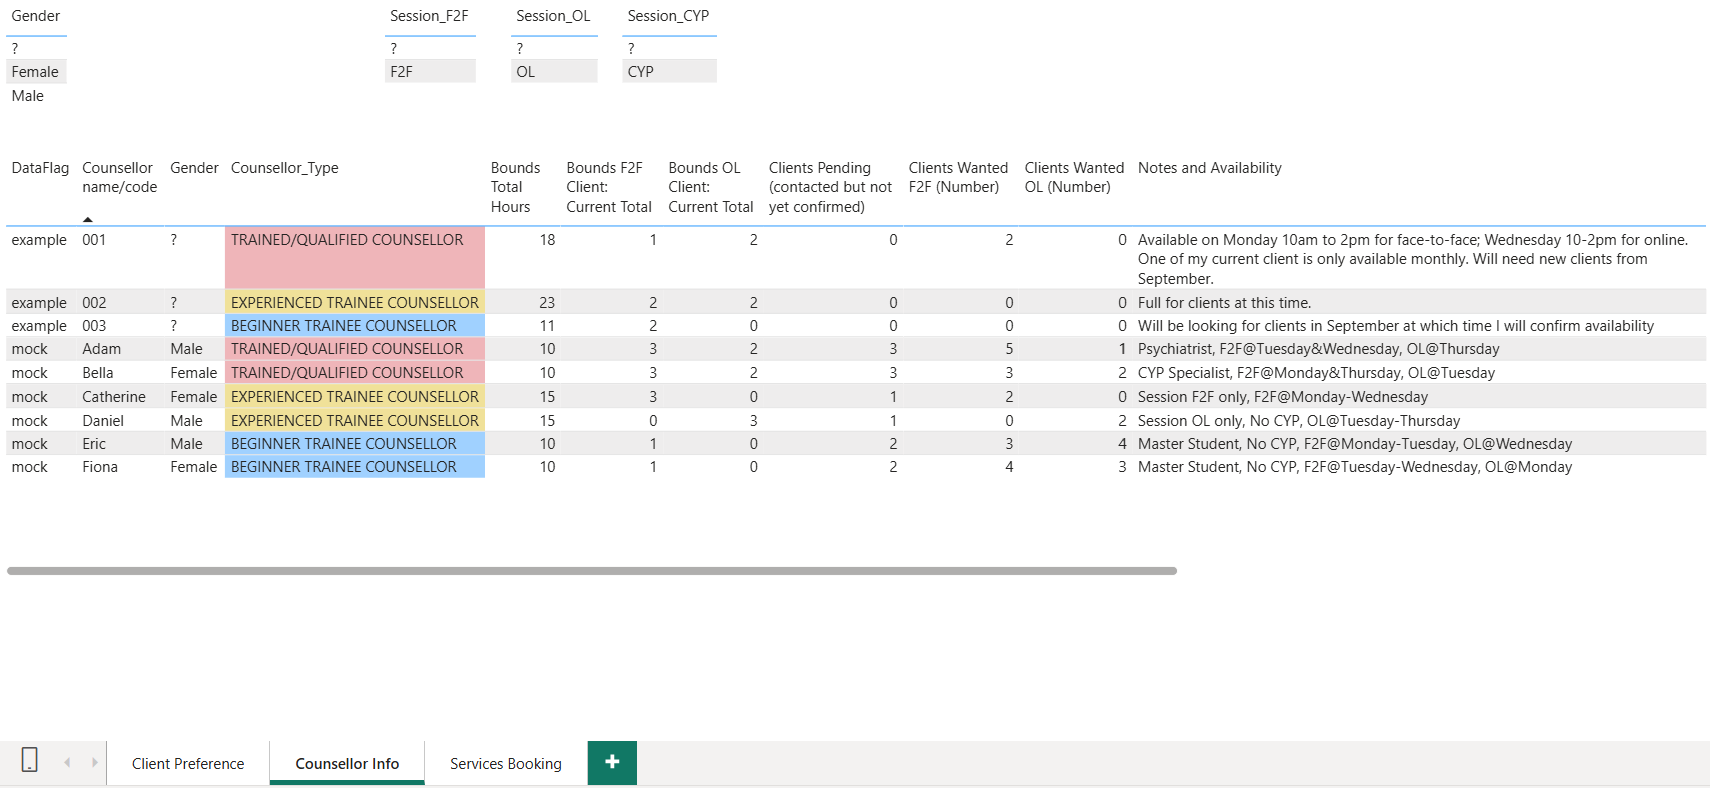

The dashboard page shown, as its layout file describes it:
{"tool":"powerbi","page":{"name":"Counsellor Info","canvas":[1280,720],"ordinal":1},"visuals":[{"type":"tableEx","fields":{"Values":["counsellor.Gender"]},"box":[0,0,83.7,108.4],"z":0},{"type":"tableEx","fields":{"Values":["counsellor.Session_F2F"]},"box":[336.2,0,112.5,108.4],"z":1000},{"type":"tableEx","fields":{"Values":["counsellor.Session_OL"]},"box":[448.7,0,98.8,108.4],"z":2000},{"type":"tableEx","fields":{"Values":["counsellor.Session_CYP"]},"box":[547.5,0,115.3,108.4],"z":3000},{"type":"tableEx","fields":{"Values":["counsellor.DataFlag","counsellor.Counsellor name/code","counsellor.Gender","counsellor.Counsellor_Type","counsellor.Bounds Total Hours","counsellor.Bounds F2F Client: Current Total","counsellor.Bounds OL Client: Current Total","counsellor.Clients Pending (contacted but not yet confirmed)","counsellor.Clients Wanted F2F (Number)","counsellor.Clients Wanted OL (Number)","counsellor.Notes and Availability"]},"box":[0,134.5,1280.3,299.1],"z":4000}]}

Visuals, with their boxes on the page's 1280x720 design canvas (x1, y1, x2, y2). These are canvas units, not pixel positions in the 1710x788 screenshot, which may show the page scaled, cropped or inside an application window:
tableEx - counsellor.Gender: left=0, top=0, right=84, bottom=108
tableEx - counsellor.Session_F2F: left=336, top=0, right=449, bottom=108
tableEx - counsellor.Session_OL: left=449, top=0, right=548, bottom=108
tableEx - counsellor.Session_CYP: left=548, top=0, right=663, bottom=108
tableEx - counsellor.DataFlag x counsellor.Counsellor name/code: left=0, top=134, right=1280, bottom=434
